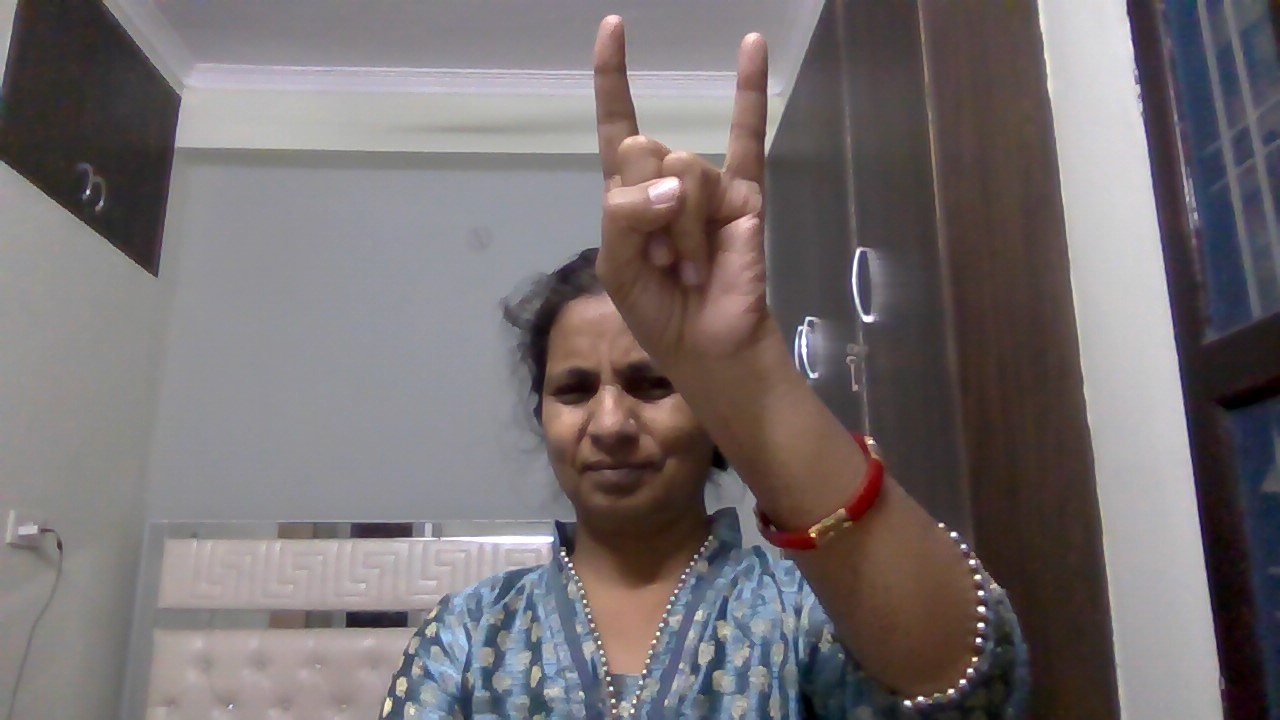Select All: (579, 12, 796, 385)
